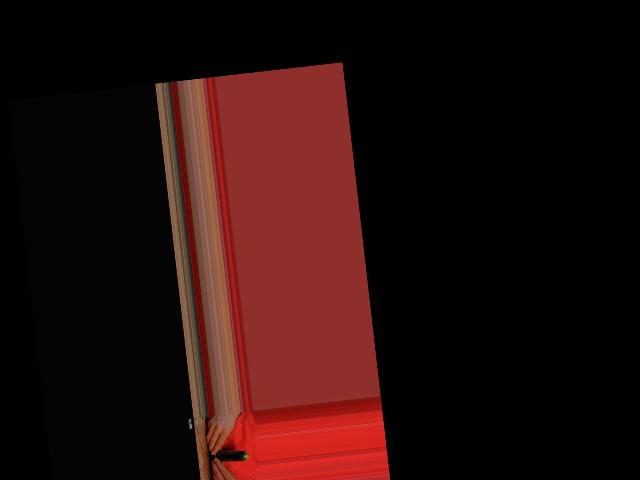cucumber: (208, 448, 248, 465)
